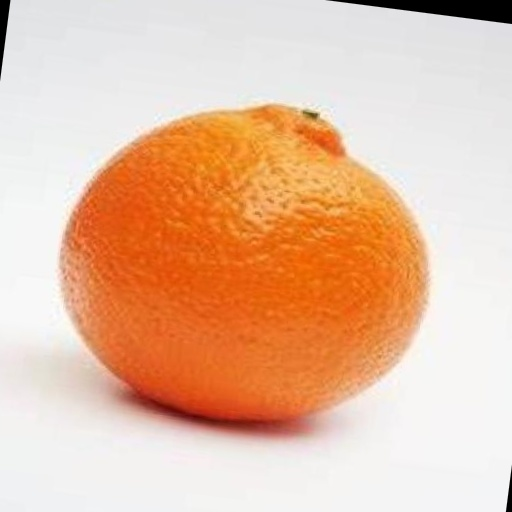fruit: (61, 105, 427, 420)
